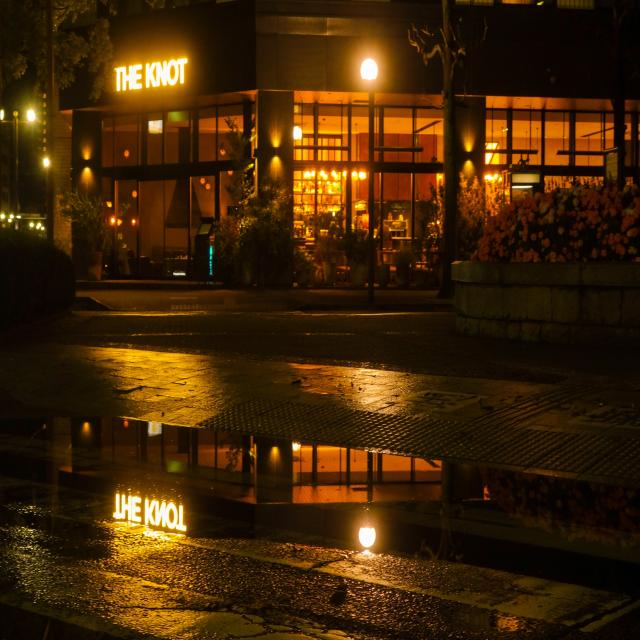Street Light: (0, 109, 36, 246), (360, 58, 379, 305)
